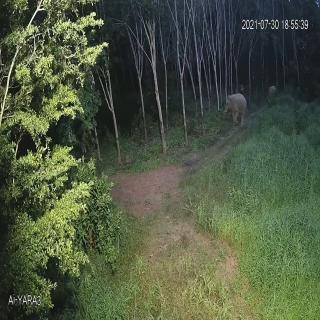Elephant: (220, 90, 252, 133), (267, 80, 280, 105)
